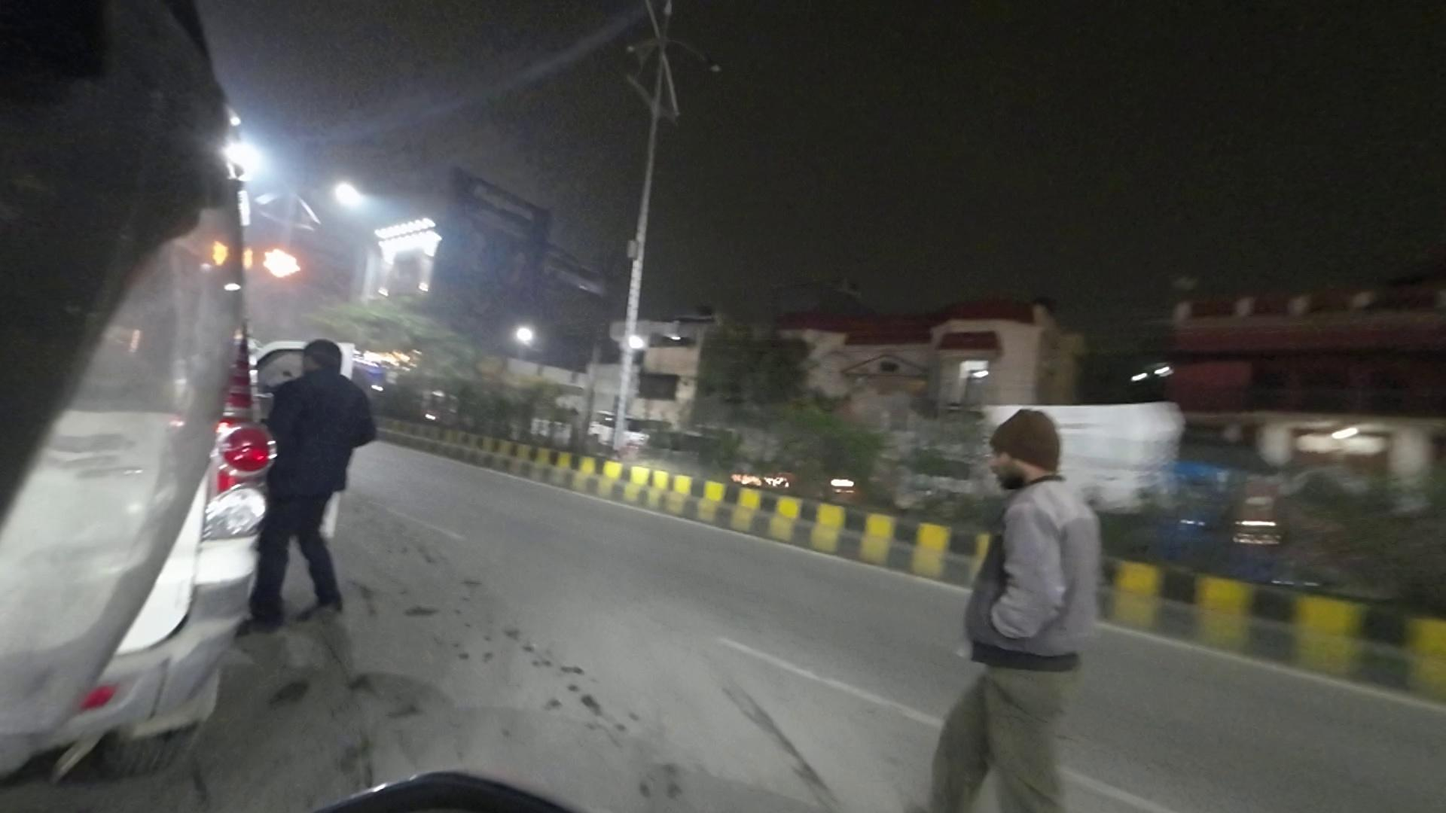streetlight: (683, 46, 725, 78)
